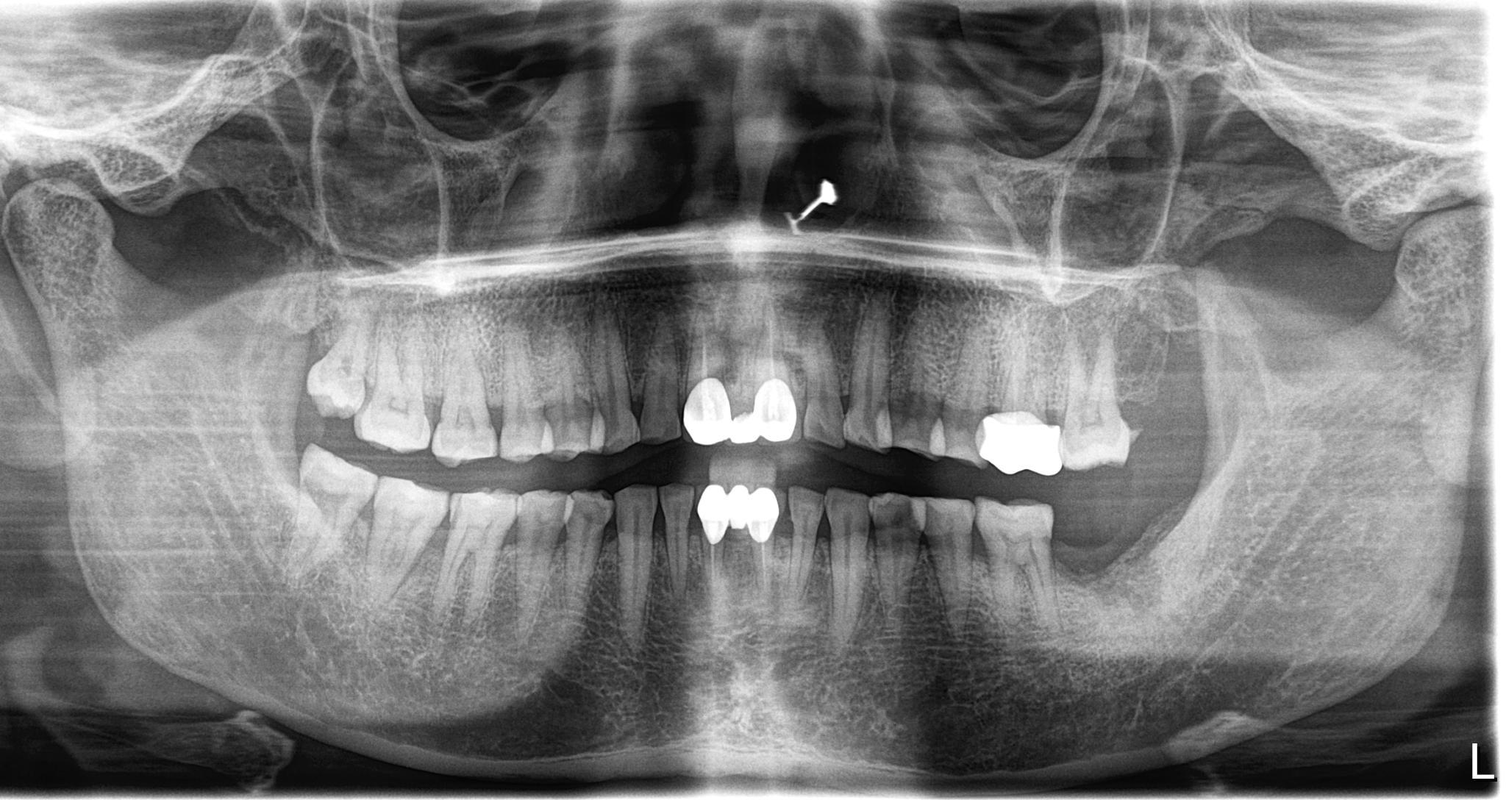Endodontically Treated Tooth: (989, 325, 1063, 480), (745, 318, 808, 440), (700, 482, 742, 634), (693, 309, 738, 446), (750, 483, 786, 630)
Missing Tooth: (1127, 324, 1217, 459), (1118, 506, 1186, 631), (1063, 506, 1123, 637)
